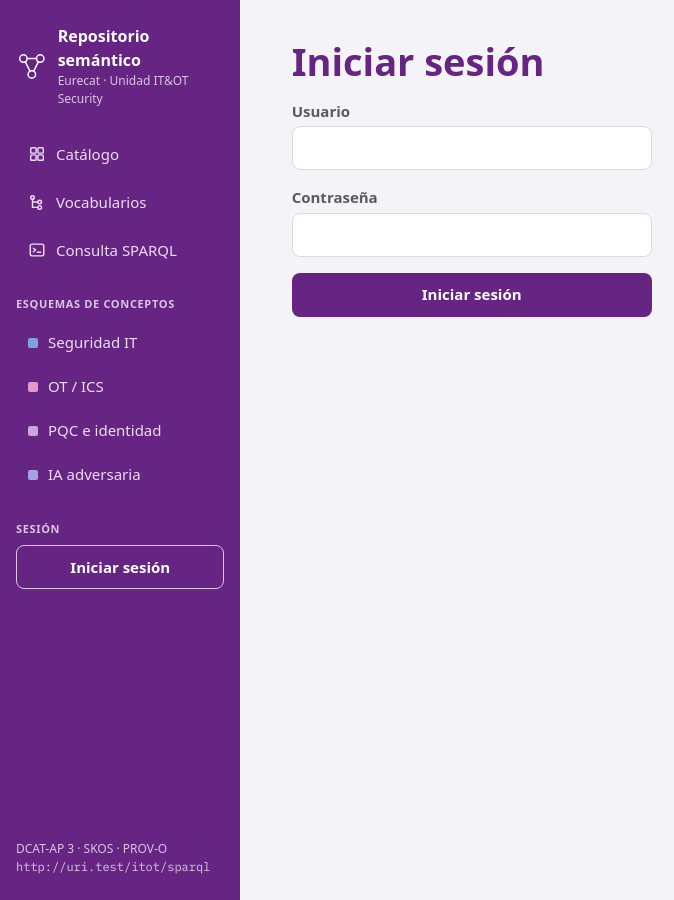
Scenario: Login › muestra un error con role="alert" si las credenciales son incorrectas
Type "usuario-prueba" into the field labelled "Usuario" at (472,148), box x1=292 y1=126 x2=652 y2=170
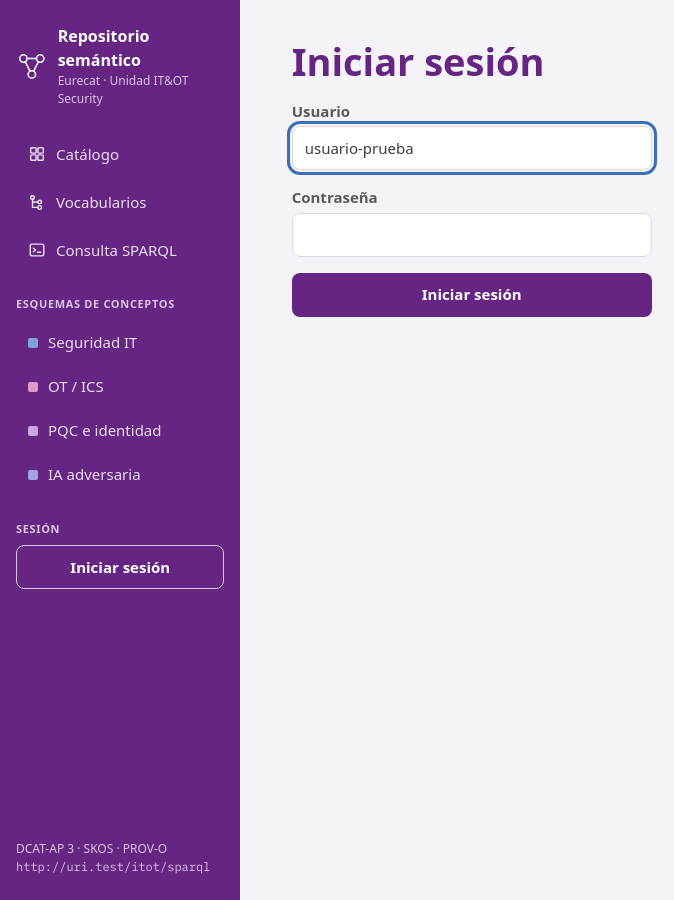
Type "otra-clave" into the password field labelled "Contraseña" at (472,235), box x1=292 y1=213 x2=652 y2=257
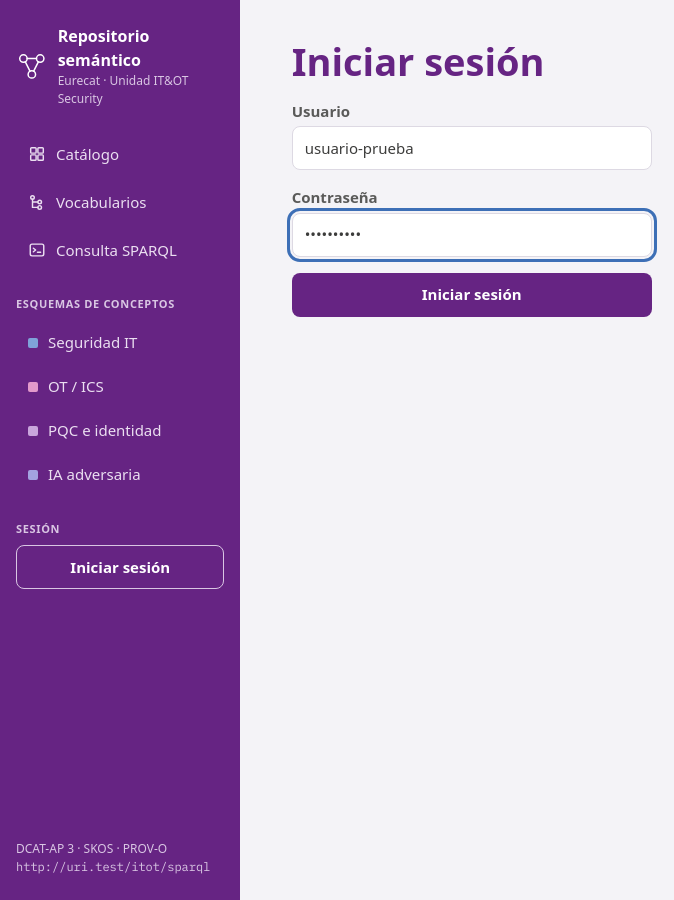
Click the button "Iniciar sesión" at (472,295), box x1=292 y1=273 x2=652 y2=317
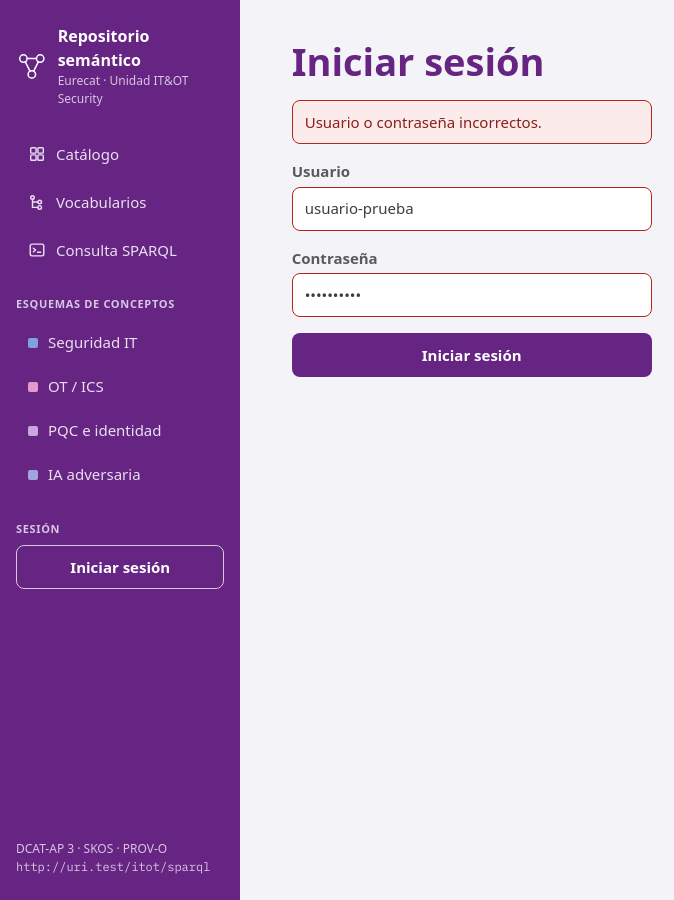
Expected: the link "Iniciar sesión" is shown, x1=16 y1=545 x2=224 y2=589
Now the message reads "Usuario o contraseña incorrectos.", box x1=305 y1=112 x2=542 y2=132
